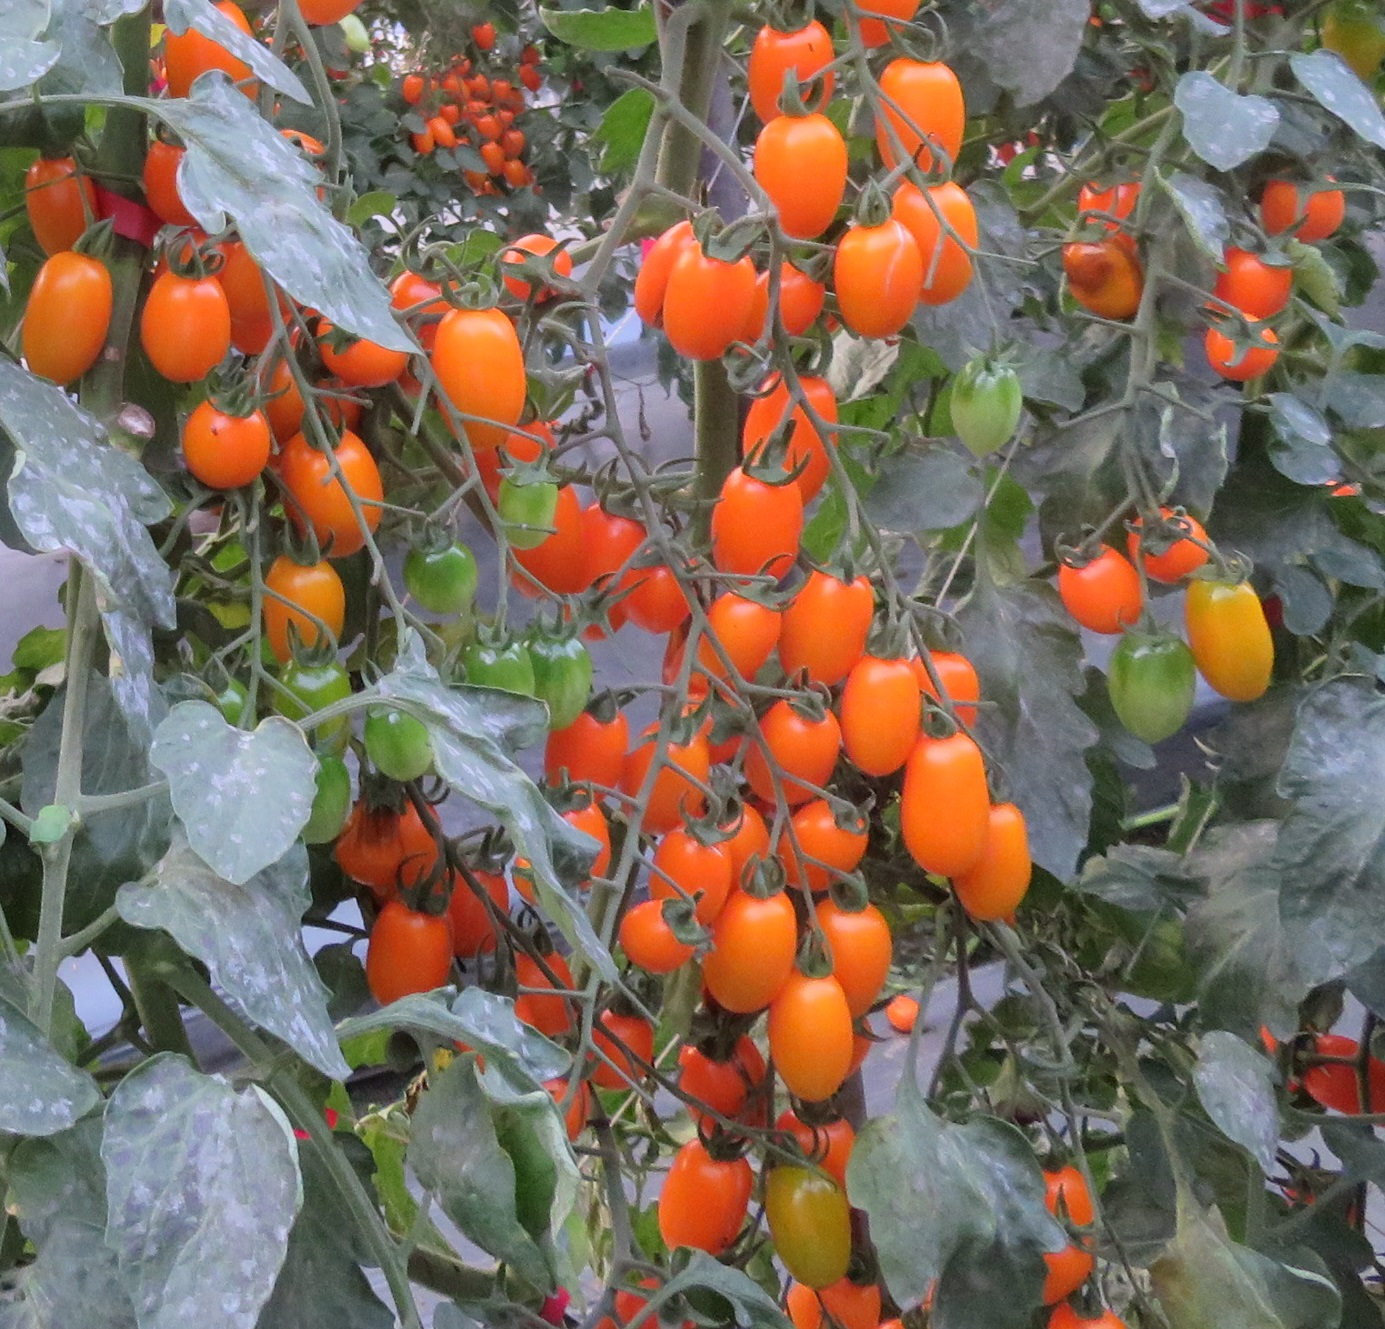green: (1106, 634, 1201, 749), (763, 1161, 852, 1283), (948, 360, 1020, 470), (273, 664, 352, 742), (293, 752, 349, 846), (366, 708, 434, 779), (509, 464, 566, 545), (542, 640, 599, 722), (414, 553, 477, 622), (466, 635, 533, 700)
orange: (438, 298, 531, 457), (900, 731, 989, 879), (23, 252, 113, 394), (277, 429, 378, 553), (667, 223, 763, 352), (751, 101, 845, 234), (879, 53, 974, 182), (739, 694, 838, 812), (655, 1142, 756, 1257), (1188, 586, 1282, 708), (767, 975, 850, 1111), (829, 209, 918, 334), (153, 1, 260, 105), (697, 886, 783, 1011), (790, 564, 872, 694), (688, 593, 783, 703), (835, 655, 915, 783), (145, 271, 232, 384), (712, 464, 804, 567), (1034, 1165, 1099, 1309), (915, 171, 982, 312), (176, 407, 281, 490), (352, 901, 448, 990), (770, 807, 864, 896), (333, 805, 425, 893), (819, 907, 890, 1011), (685, 1041, 764, 1134), (1303, 1035, 1385, 1123), (260, 559, 333, 656), (982, 801, 1041, 920), (741, 28, 830, 108), (618, 549, 697, 637), (27, 159, 100, 253), (1062, 244, 1144, 326), (445, 864, 511, 961), (1212, 250, 1290, 326), (545, 708, 618, 789), (585, 1011, 655, 1094), (1201, 312, 1277, 387), (1255, 179, 1342, 244), (644, 818, 722, 886), (577, 498, 647, 574), (1063, 545, 1130, 622), (1120, 511, 1204, 570), (923, 650, 981, 731), (1077, 174, 1153, 235), (612, 915, 694, 970), (888, 993, 926, 1037), (479, 143, 509, 178), (430, 117, 460, 150), (519, 59, 545, 94), (403, 74, 429, 105), (479, 113, 503, 138)
